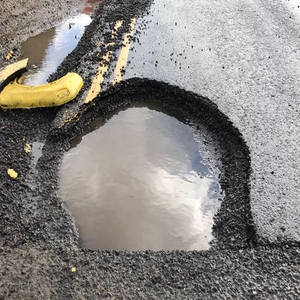pothole: (45, 75, 259, 258)
